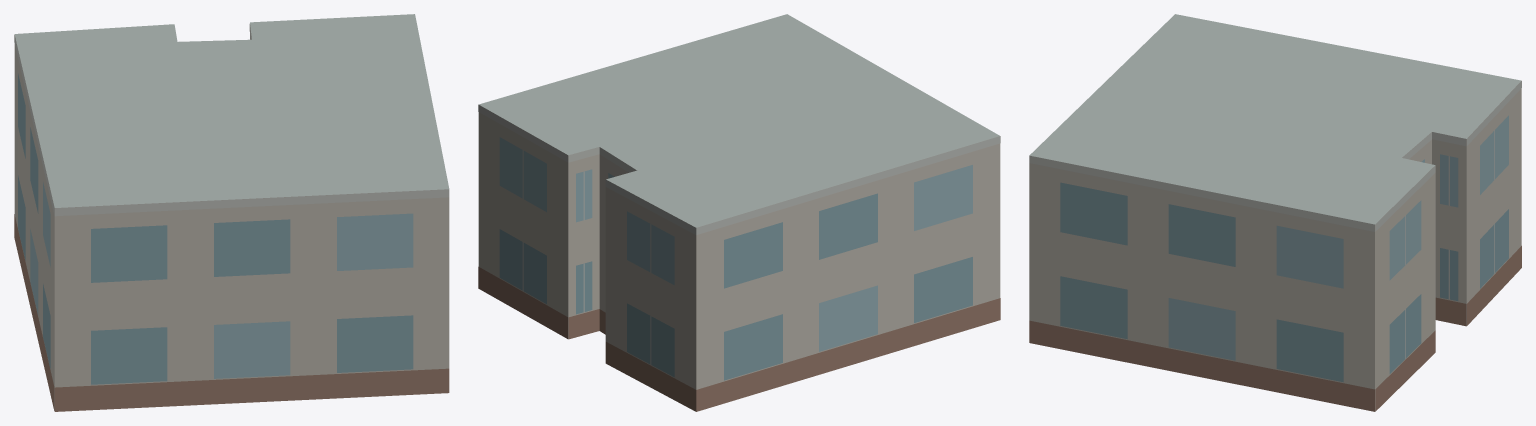
Rendered from survey-upis-32652827.glb.
3 views of the same model, side by side, from view 1: azimuth 30°, elevation 25°; view 2: azimuth 150°, elevation 25°; view 3: azimuth 270°, elevation 25° (orthographic). The views are drawn at different scales.
Parts seen in each view (by area): view 1: survey-upis-32652827.tmp; view 2: survey-upis-32652827.tmp; view 3: survey-upis-32652827.tmp.
Part boxes in pixels (x1,y1,x2,y2): survey-upis-32652827.tmp: (14,14,449,411); survey-upis-32652827.tmp: (478,14,1000,411); survey-upis-32652827.tmp: (1029,14,1521,411).
Size of the model in its own units: 14.71 by 6.1 by 14.54.
